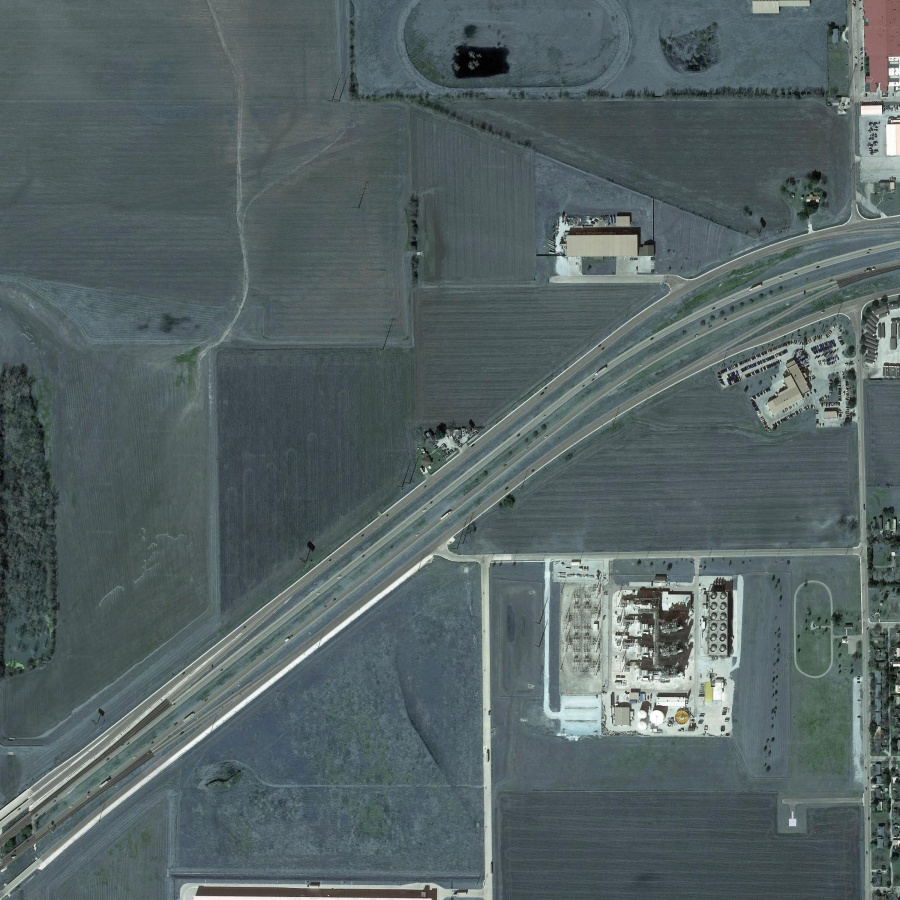PowerPlant: (546, 554, 740, 743)
